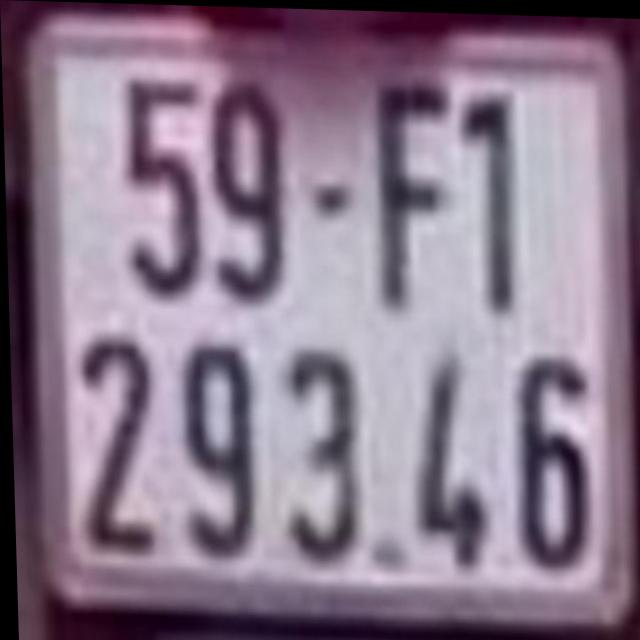1: (449, 68, 538, 333)
2: (72, 329, 152, 559)
3: (279, 334, 361, 560)
4: (405, 353, 491, 569)
5: (119, 70, 200, 300)
6: (512, 349, 596, 576)
9: (204, 74, 288, 308), (174, 335, 253, 558)
F: (363, 79, 455, 318)
